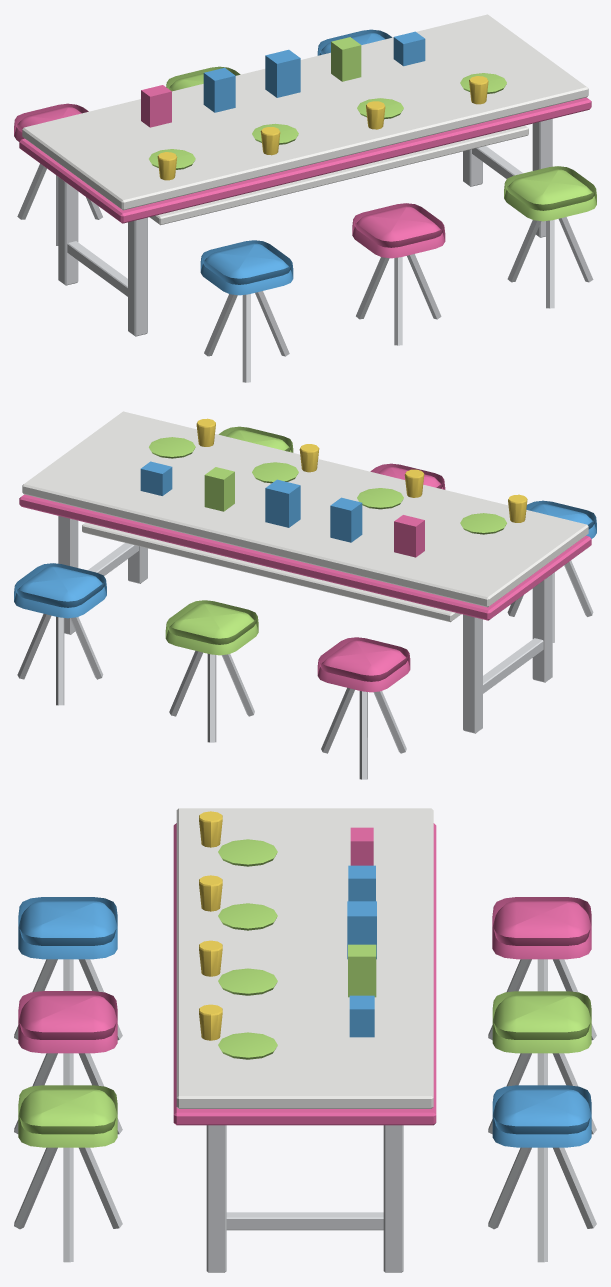
File: trampoline-park-and-soft-play-party-room-table-run-e3a47be8__34642.glb
The picture shows the model from 3 angles, top to bottom: view 1: azimuth 30°, elevation 25°; view 2: azimuth 150°, elevation 25°; view 3: azimuth 270°, elevation 25°; orthographic projection. The views are drawn at different scales.
Parts seen in each view (by area): view 1: party-room-table-run; view 2: party-room-table-run; view 3: party-room-table-run.
Boxes of the visible parts, x1=… form: party-room-table-run: x1=14, y1=14, x2=596, y2=382; party-room-table-run: x1=14, y1=411, x2=596, y2=779; party-room-table-run: x1=14, y1=808, x2=596, y2=1272.
Bounding box in the file's own units: 2.42 × 0.9148 × 2.04.
